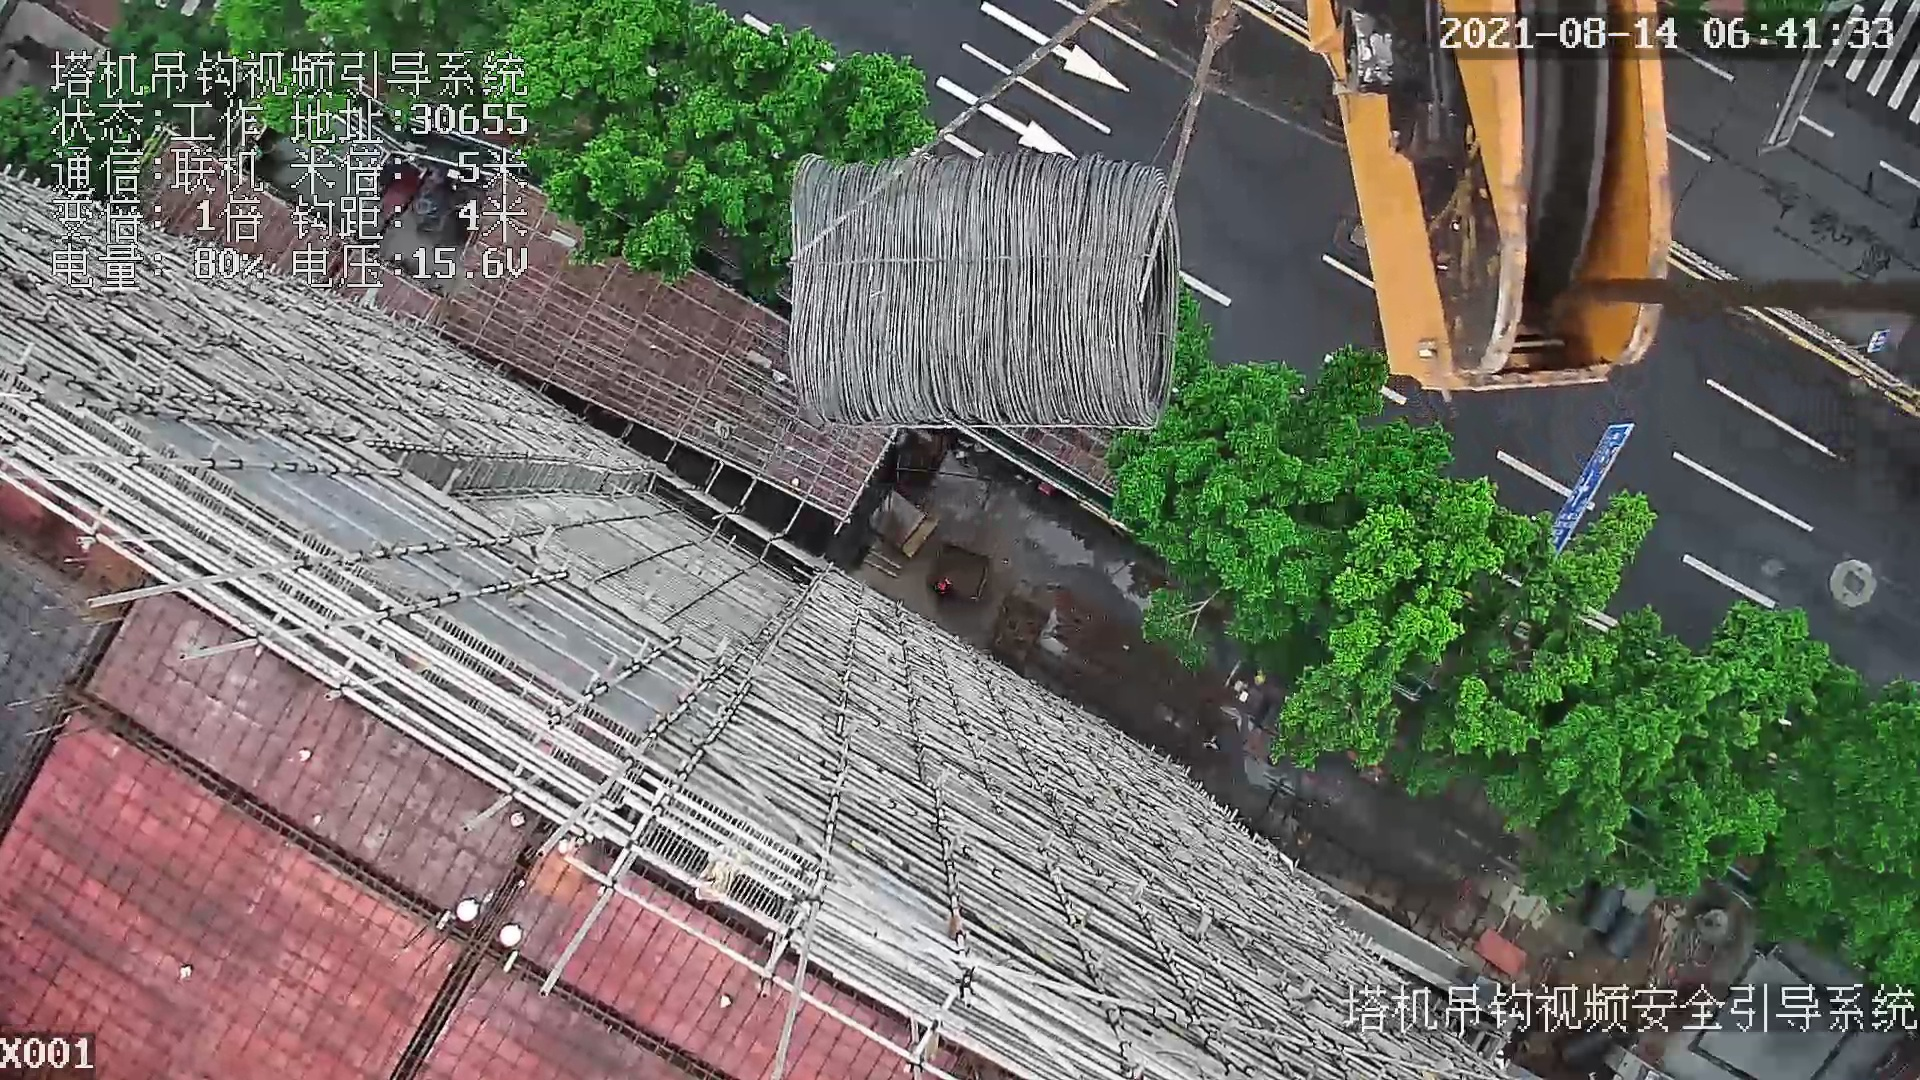hook: (1308, 1, 1667, 382)
